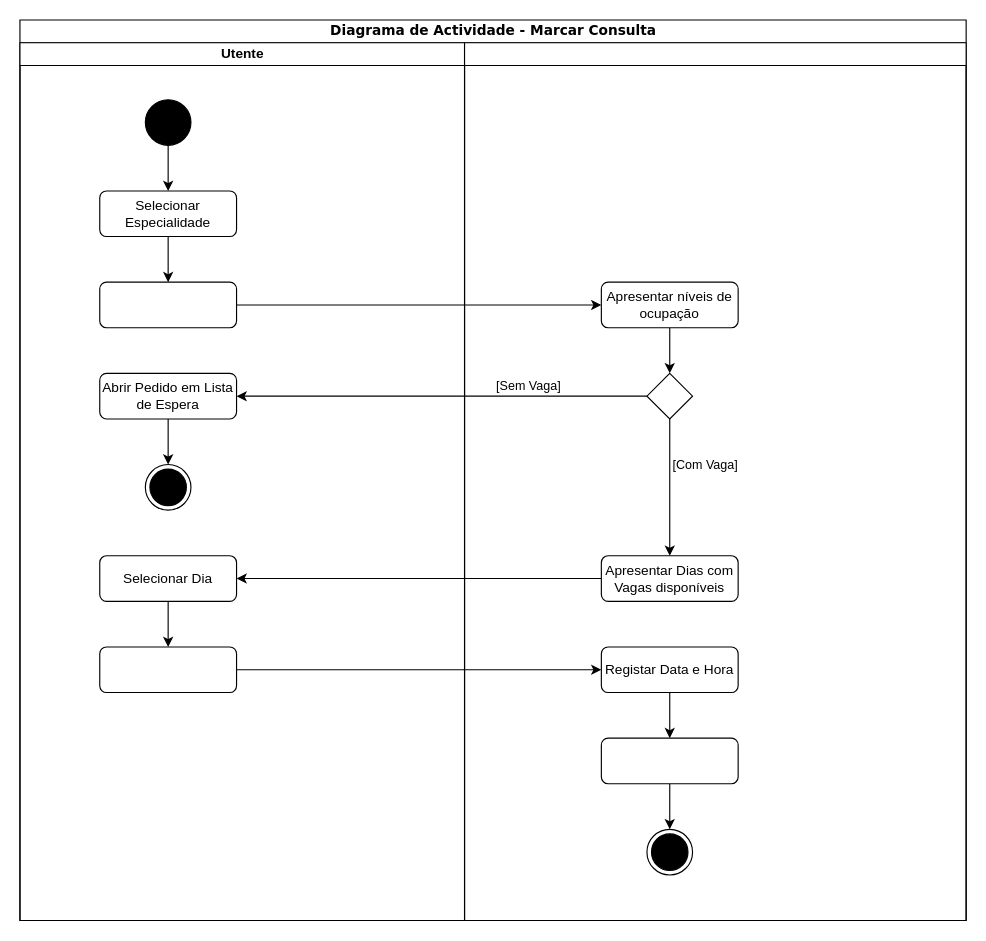
The diagram is 986 pixels wide and 941 high, and some of its shapes have lost their labels. The shapes that lost their labels are listed below. From the top down, each one's box as (x1, y1, x2, y2) in pixels, then its label:
(99, 281, 237, 328): Selecionar Mês
(463, 42, 966, 921): Sistema Informático
(99, 646, 237, 693): Selecionar Vaga
(600, 737, 738, 784): Remover Vaga do Calendário
